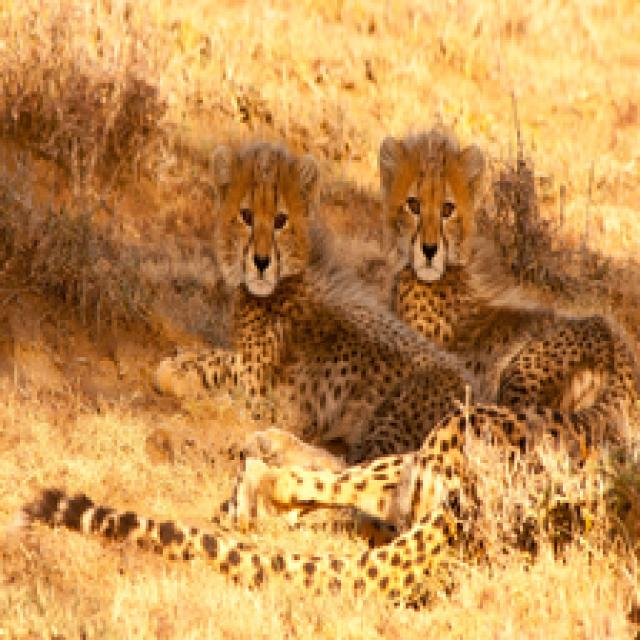cheetah: (68, 125, 374, 595), (376, 95, 640, 628)
